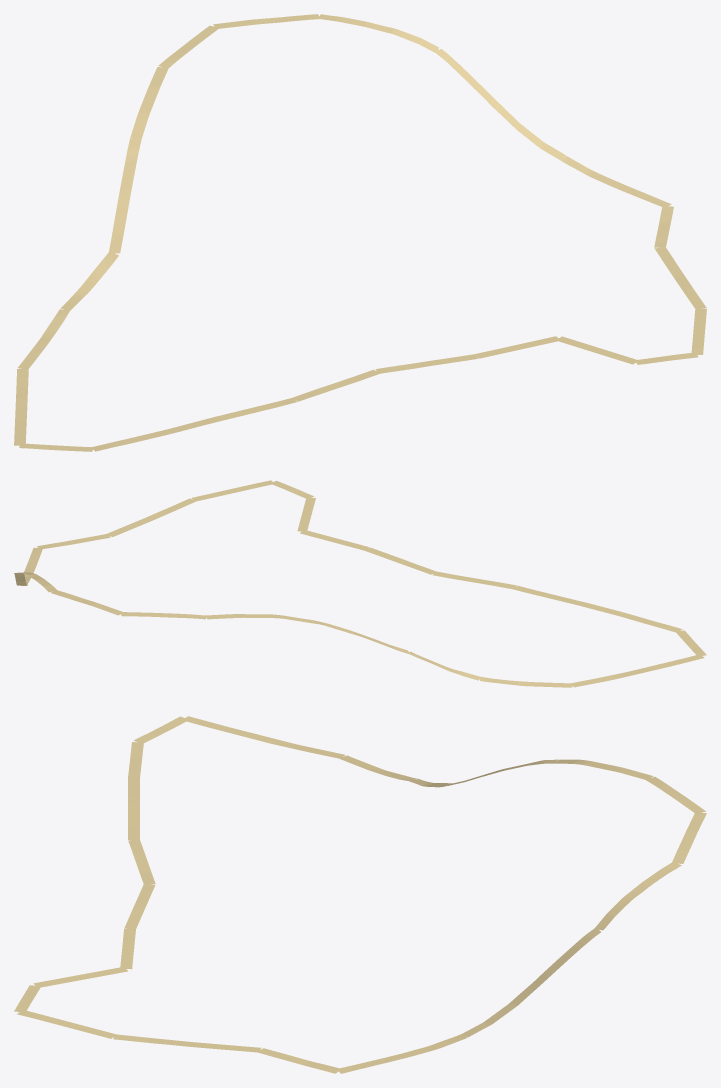
The model's file is Trail_23.glb.
The picture shows the model from 3 angles, top to bottom: view 1: azimuth 30°, elevation 25°; view 2: azimuth 150°, elevation 25°; view 3: azimuth 270°, elevation 25°; orthographic projection. The views are drawn at different scales.
Parts seen in each view (by area): view 1: Trail_23; view 2: Trail_23; view 3: Trail_23.
Part boxes in pixels (box(x1,y1,x2,y2)): Trail_23: box(14, 14, 706, 451); Trail_23: box(14, 480, 706, 687); Trail_23: box(14, 716, 706, 1073).
Bounding box in the file's own units: 127 × 20.9 × 101.
